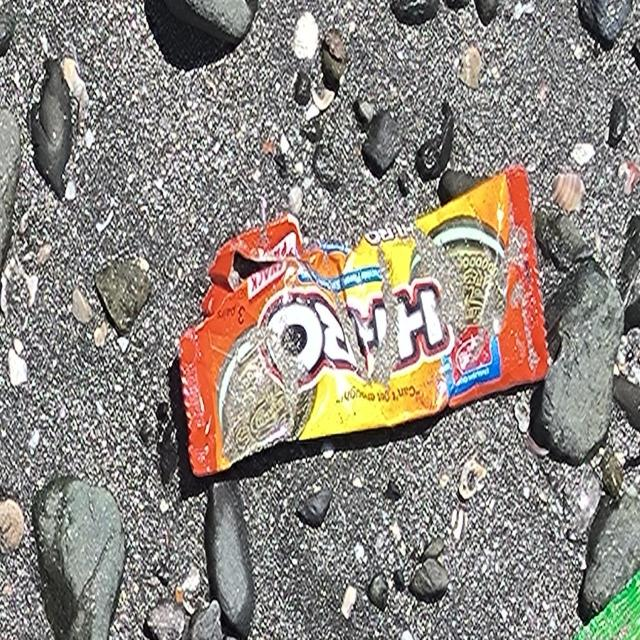plastic_waste: (177, 158, 555, 480)
